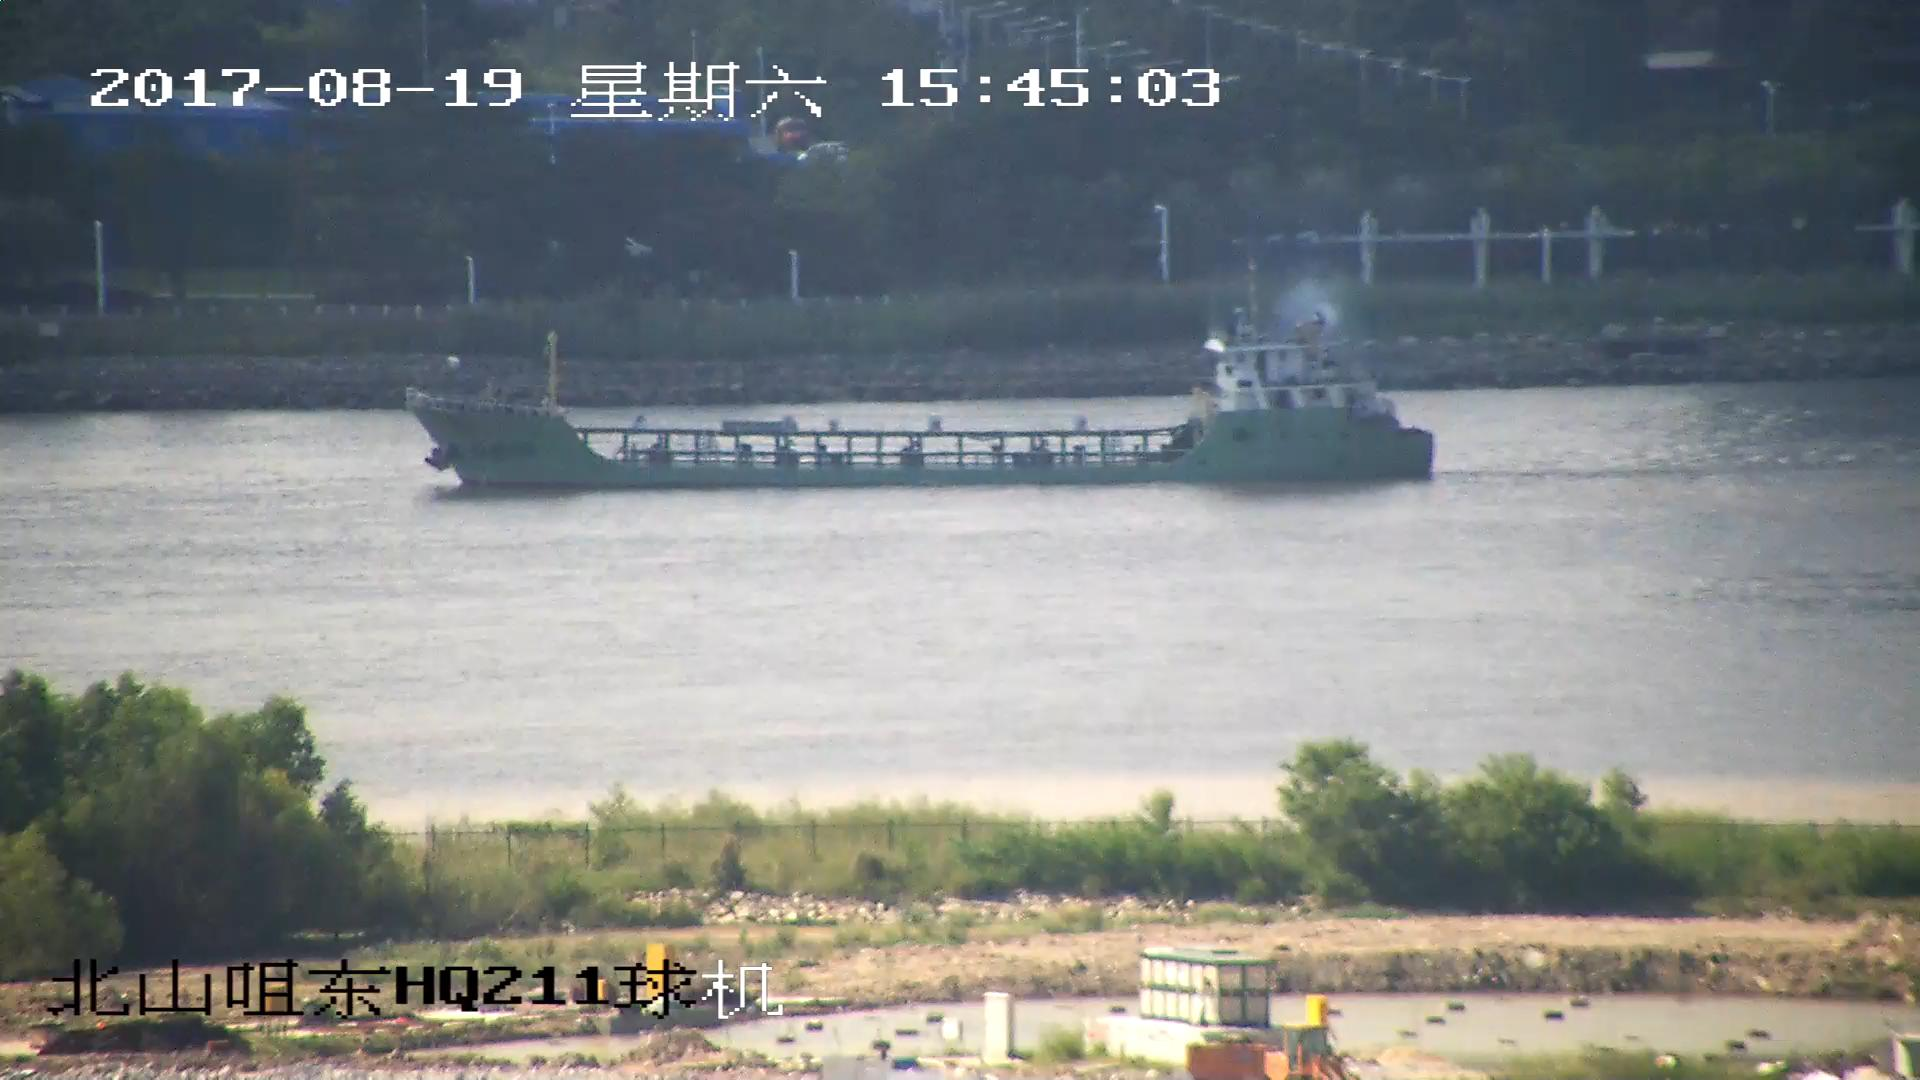general cargo ship: (407, 281, 1439, 483)
